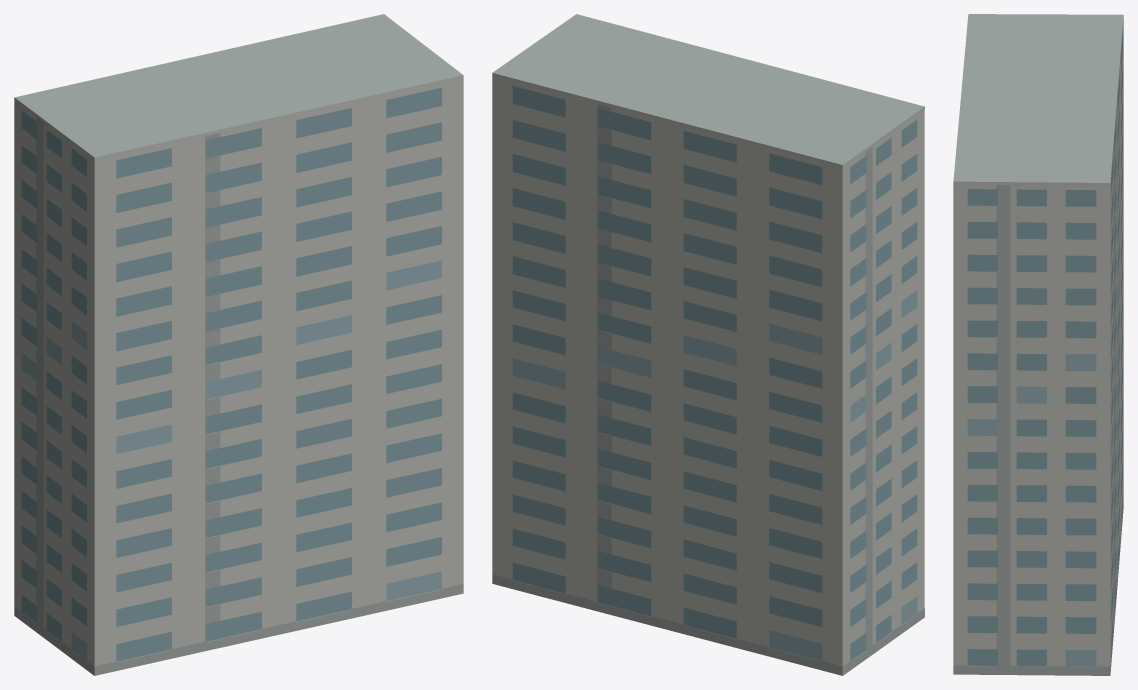
Rendered from residential-7ba06690-6039-4b50-b08f-412cd0f18c46.glb.
3 renders of one model, left to right at view 1: azimuth 30°, elevation 25°; view 2: azimuth 150°, elevation 25°; view 3: azimuth 270°, elevation 25°, orthographic. The views are drawn at different scales.
Visible parts, largest first — view 1: residential-7ba06690-6039-4b50-b08f-412cd0f18c46.tmp; view 2: residential-7ba06690-6039-4b50-b08f-412cd0f18c46.tmp; view 3: residential-7ba06690-6039-4b50-b08f-412cd0f18c46.tmp.
Part boxes in pixels (x1,y1,x2,y2): residential-7ba06690-6039-4b50-b08f-412cd0f18c46.tmp: (14,14,463,675); residential-7ba06690-6039-4b50-b08f-412cd0f18c46.tmp: (492,14,924,675); residential-7ba06690-6039-4b50-b08f-412cd0f18c46.tmp: (953,14,1123,675).
Bounding box in the file's own units: 28.69 × 39 × 12.21.
